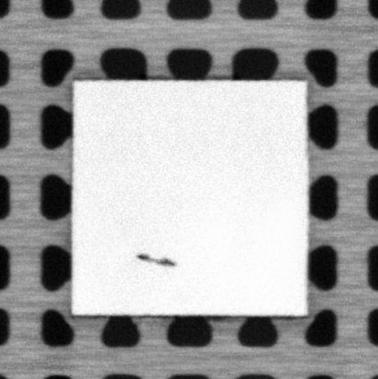DIE_INK: (131, 252, 177, 267)
